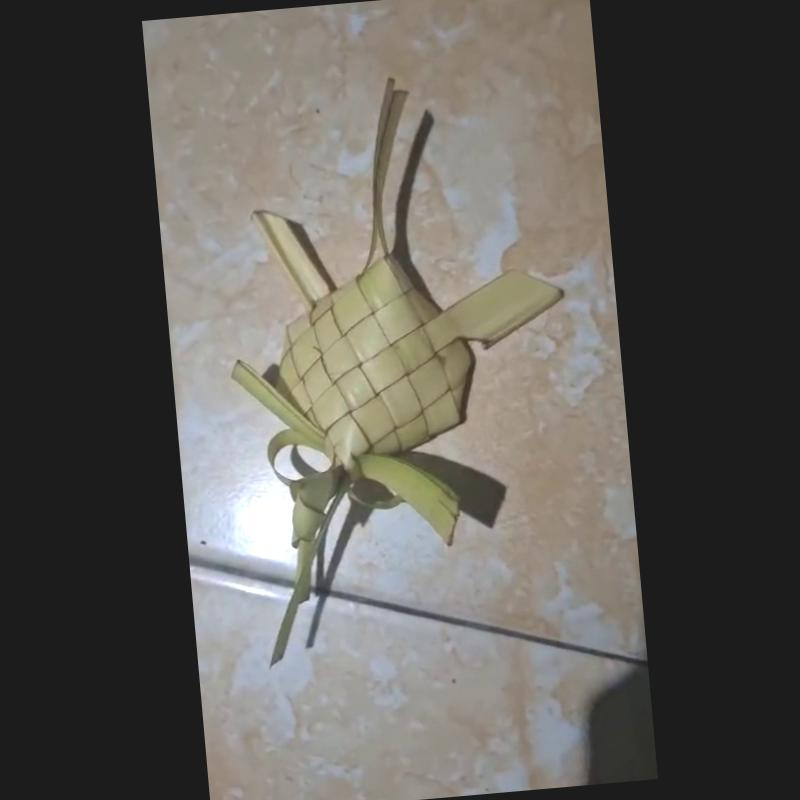Tipat Dampulan: (223, 76, 575, 670)
